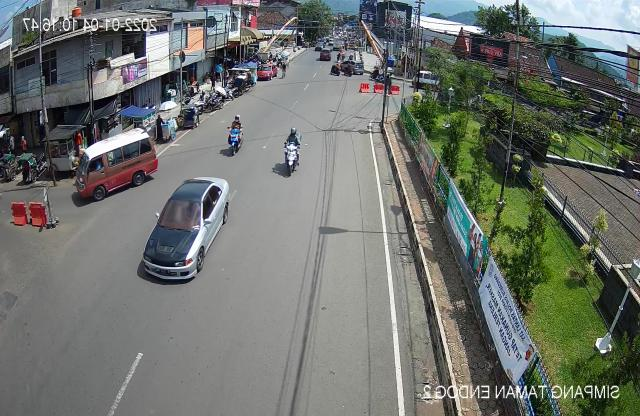Mobil: (136, 174, 233, 288), (71, 122, 159, 210)
Motor: (279, 124, 306, 180), (220, 112, 246, 160)
